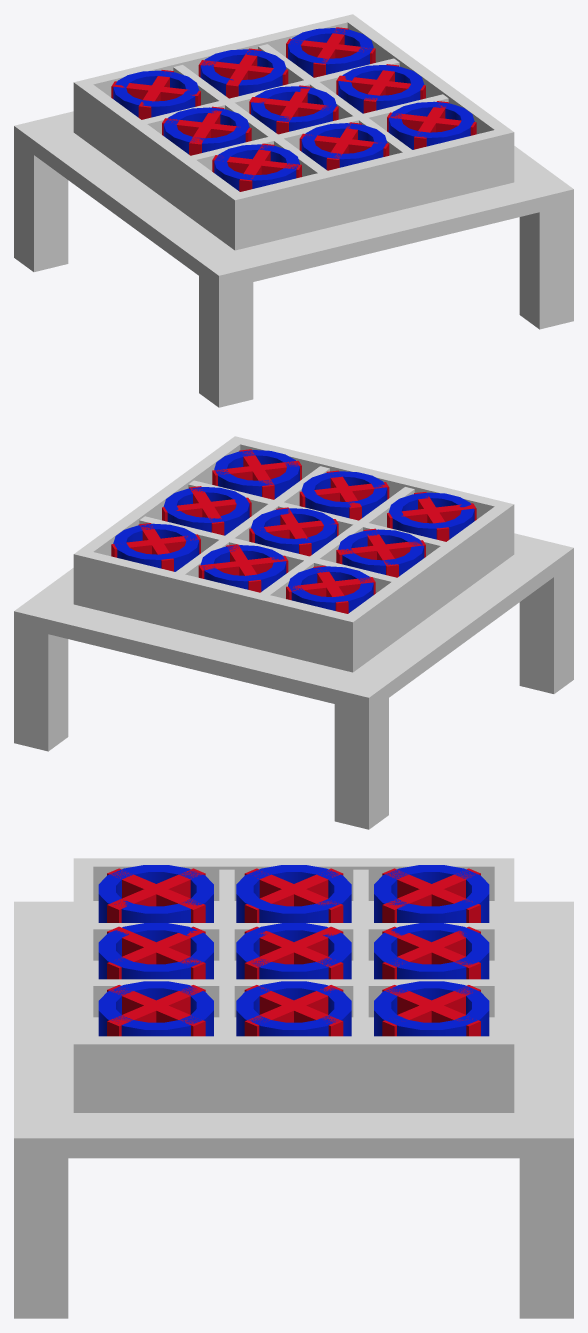
Rendered from TicTacToe Board.fbx.
The picture shows the model from 3 angles, top to bottom: view 1: azimuth 30°, elevation 25°; view 2: azimuth 150°, elevation 25°; view 3: azimuth 270°, elevation 25°; orthographic projection. The views are drawn at different scales.
Visible parts, largest first — view 1: Cube.001, Board, Circle2, Circle0, Circle5, Circle8, Circle1, Circle7, Circle6, Circle3, Circle4, Cross1 (+8 smaller); view 2: Cube.001, Board, Circle8, Circle6, Circle2, Circle5, Circle7, Circle4, Circle3, Circle0, Circle1, Cross8 (+8 smaller); view 3: Cube.001, Board, Circle3, Circle0, Circle6, Circle1, Circle7, Circle2, Circle5, Circle4, Circle8, Cross6 (+8 smaller).
Boxes of the visible parts, bbox=[...] form: Cube.001: bbox=[14, 111, 573, 407]; Board: bbox=[73, 14, 514, 250]; Circle2: bbox=[288, 28, 373, 76]; Circle0: bbox=[113, 70, 199, 117]; Circle5: bbox=[338, 65, 424, 113]; Circle8: bbox=[388, 101, 474, 149]; Circle1: bbox=[200, 49, 286, 95]; Circle7: bbox=[301, 123, 387, 169]; Circle6: bbox=[214, 144, 299, 190]; Circle3: bbox=[163, 107, 249, 154]; Circle4: bbox=[251, 86, 336, 132]; Cross1: bbox=[198, 48, 288, 98]; Cube.001: bbox=[14, 533, 573, 829]; Board: bbox=[73, 436, 514, 672]; Circle8: bbox=[214, 450, 299, 498]; Circle6: bbox=[388, 492, 474, 539]; Circle2: bbox=[113, 523, 199, 571]; Circle5: bbox=[163, 487, 249, 535]; Circle7: bbox=[301, 471, 387, 517]; Circle4: bbox=[251, 508, 336, 554]; Circle3: bbox=[338, 529, 424, 576]; Circle0: bbox=[288, 566, 373, 612]; Circle1: bbox=[200, 545, 286, 591]; Cross8: bbox=[212, 449, 301, 499]; Cube.001: bbox=[14, 901, 573, 1318]; Board: bbox=[73, 858, 514, 1112]; Circle3: bbox=[236, 865, 351, 922]; Circle0: bbox=[374, 865, 489, 922]; Circle6: bbox=[98, 865, 213, 922]; Circle1: bbox=[374, 923, 489, 979]; Circle7: bbox=[98, 923, 213, 979]; Circle2: bbox=[374, 981, 489, 1036]; Circle5: bbox=[236, 981, 351, 1036]; Circle4: bbox=[236, 923, 351, 979]; Circle8: bbox=[98, 981, 213, 1036]; Cross6: bbox=[107, 868, 205, 922].
Bounding box in the file's own units: 116 × 57.94 × 116.
